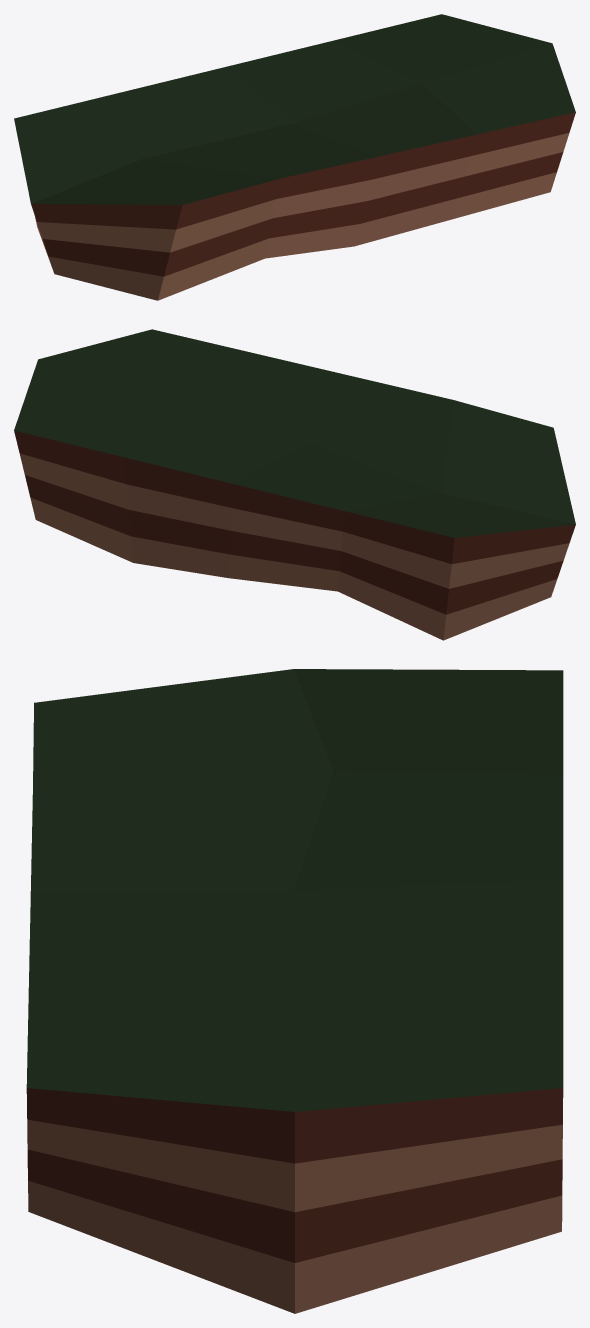
File: chao3.fbx
3 views of the same model, one above another, from view 1: azimuth 30°, elevation 25°; view 2: azimuth 150°, elevation 25°; view 3: azimuth 270°, elevation 25° (orthographic). The views are drawn at different scales.
Visible parts, largest first — view 1: Cube.001; view 2: Cube.001; view 3: Cube.001.
Part boxes in pixels (bbox=[...]): Cube.001: bbox=[14, 14, 575, 300]; Cube.001: bbox=[14, 329, 575, 640]; Cube.001: bbox=[26, 669, 563, 1313].
Bounding box in the file's own units: 879 × 189 × 391.
